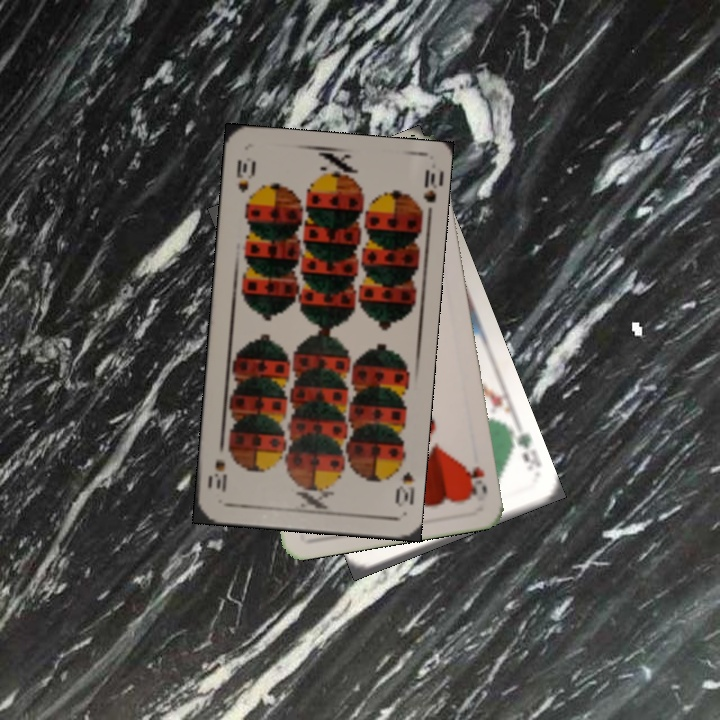GK: (507, 426, 545, 470)
HO: (462, 460, 490, 503)
S10: (390, 454, 417, 509), (232, 156, 257, 195)
